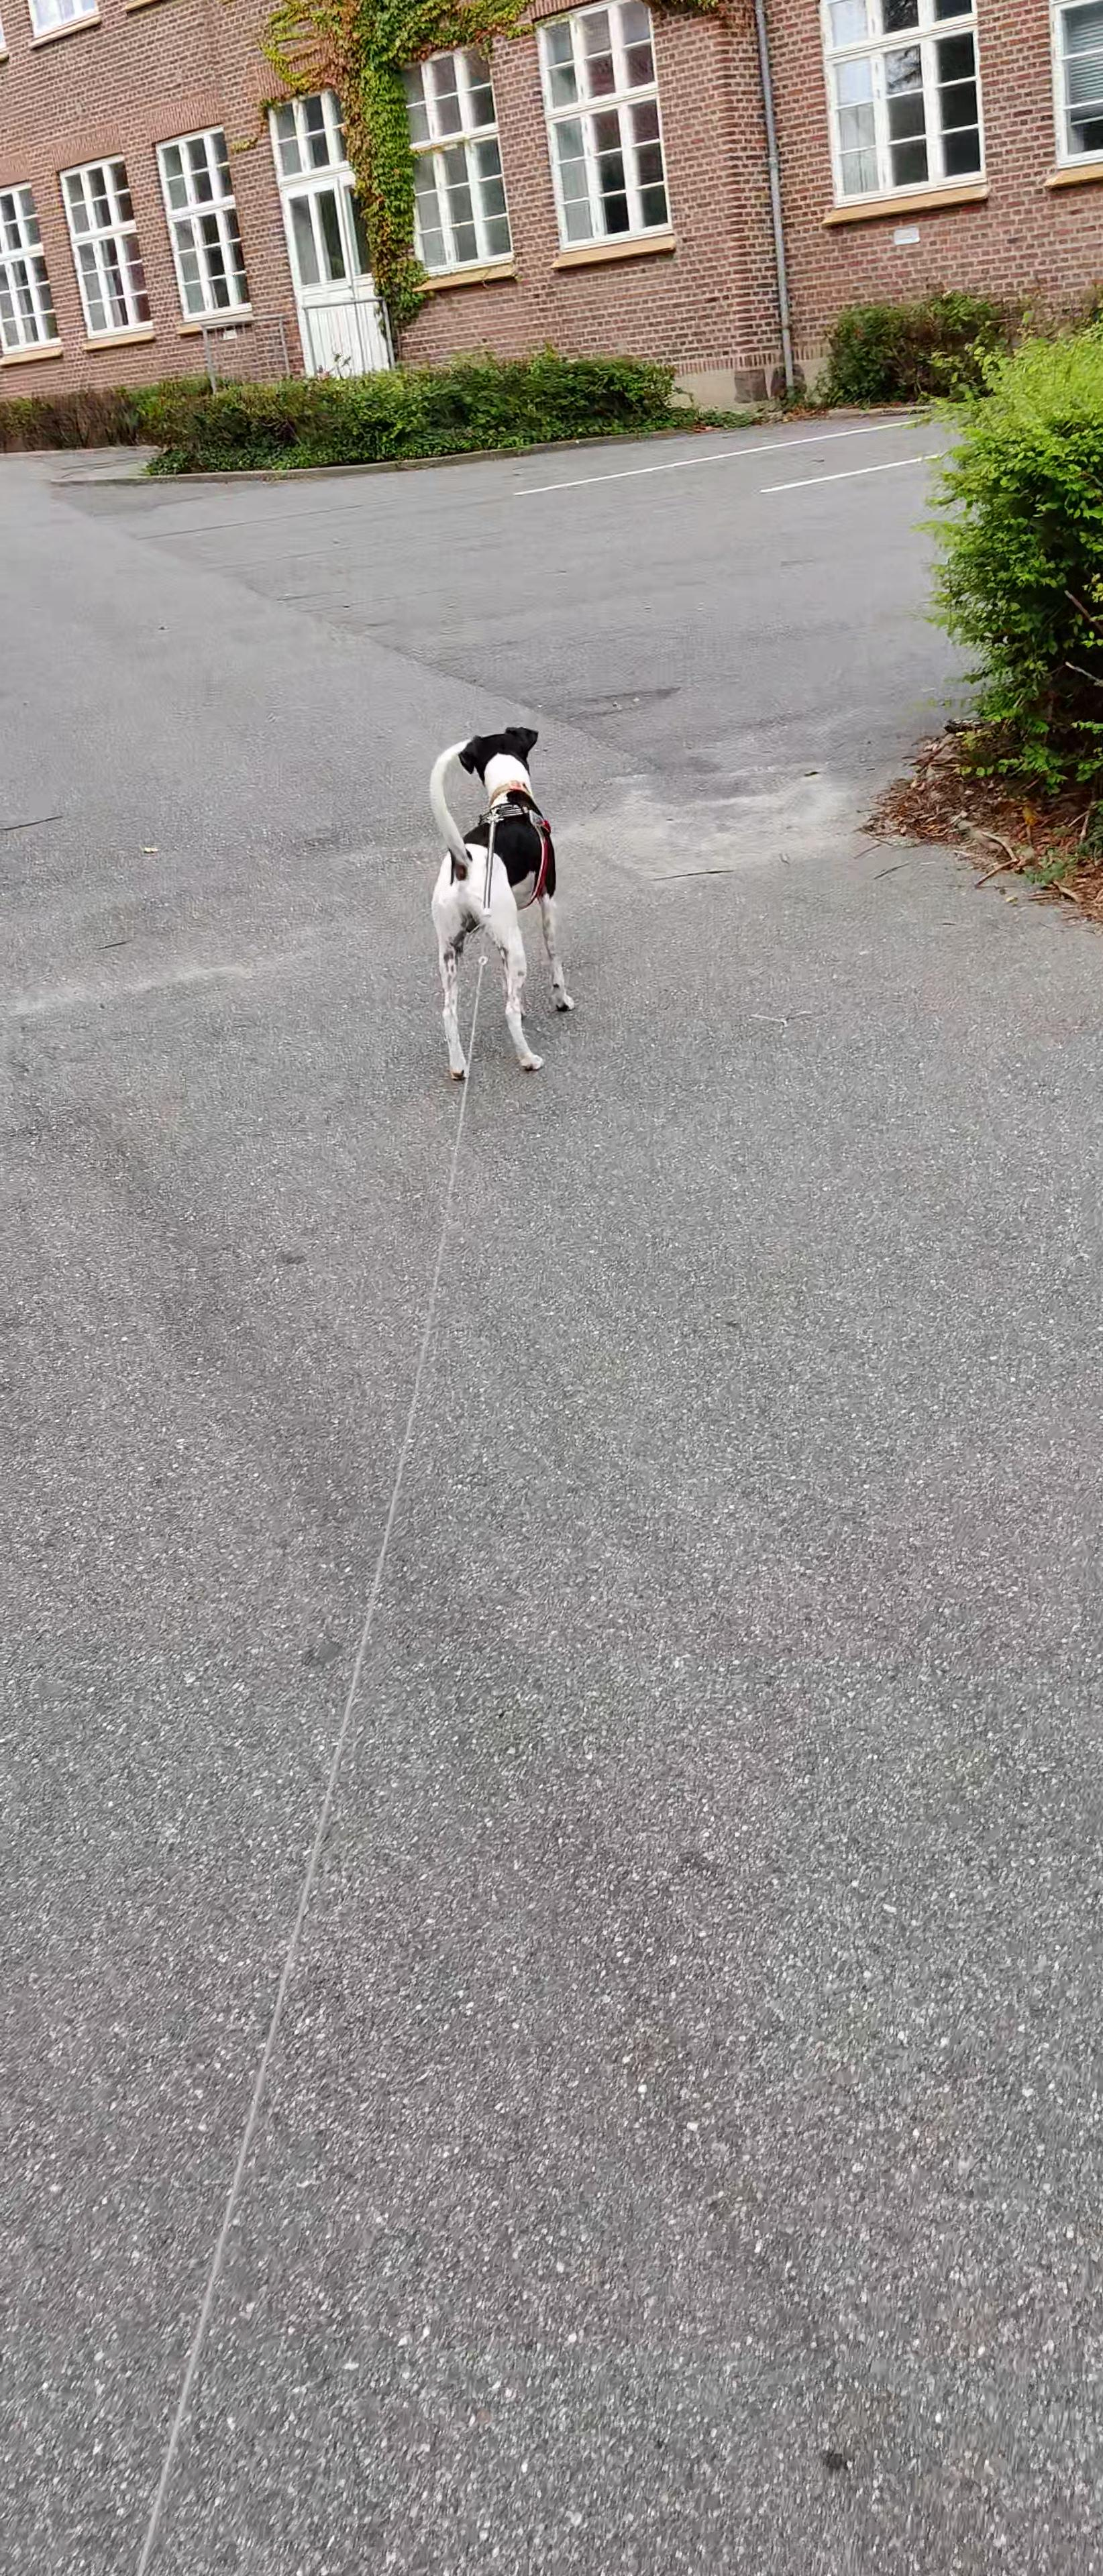Dog: (424, 728, 584, 1083)
